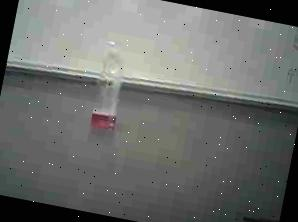hazard: (86, 36, 140, 132)
